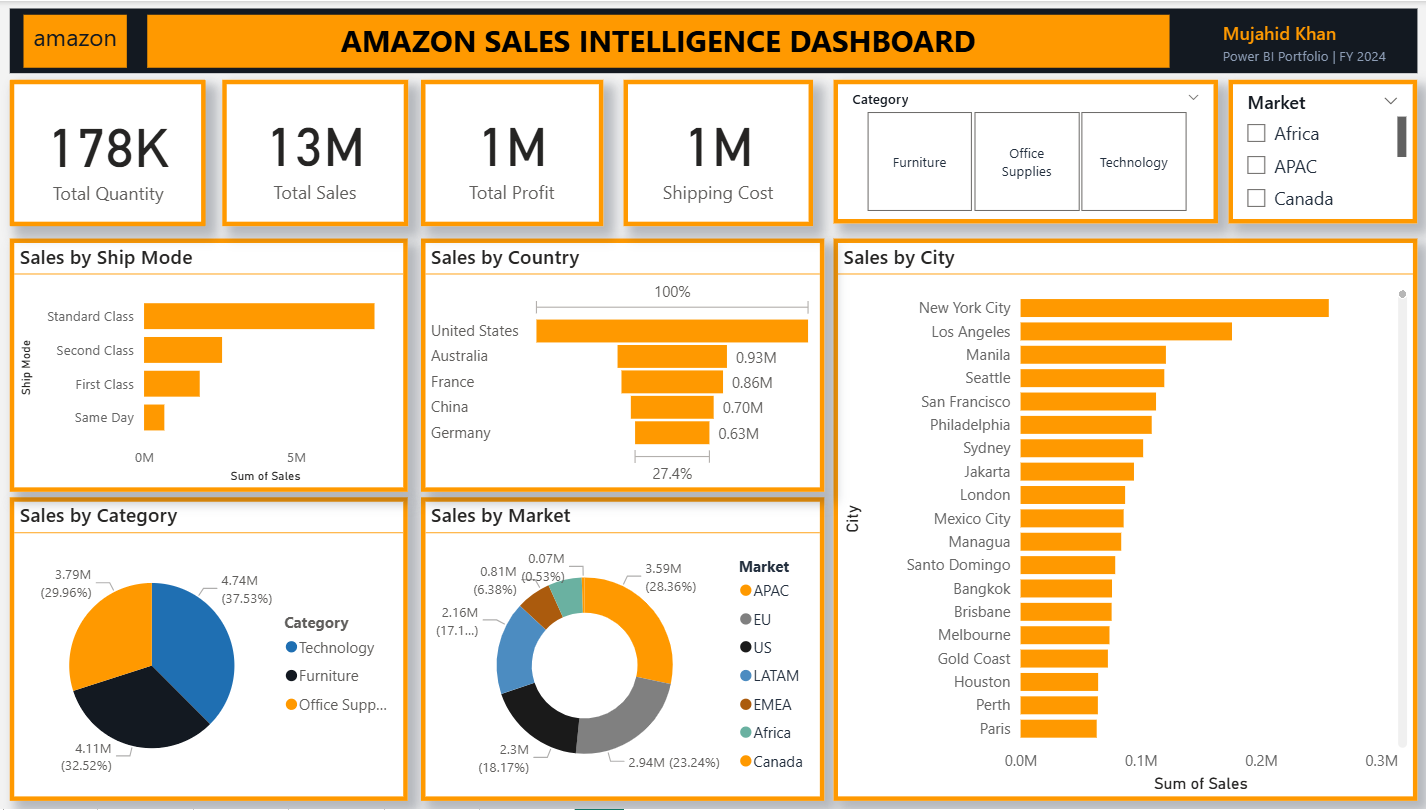

What the dashboard file says about the page in this screenshot:
{"tool":"powerbi","page":{"name":"Page 1","canvas":[1280,720],"ordinal":0},"visuals":[{"type":"pieChart","title":"Sales by Category","fields":{"Category":["Orders.Category"],"Y":["Sum(Orders.Sales)"]},"box":[12.2,442.2,354.4,270],"z":0},{"type":"donutChart","title":"Sales by Market","fields":{"Category":["Orders.Market"],"Y":["Sum(Orders.Sales)"]},"box":[378.9,442.2,358.9,270],"z":1000},{"type":"barChart","title":"Sales by Ship Mode","fields":{"Category":["Orders.Ship Mode"],"Y":["Sum(Orders.Sales)"]},"box":[12.2,211.1,354.4,225.6],"z":2000},{"type":"barChart","title":"Sales by City","fields":{"Category":["Orders.City"],"Y":["Sum(Orders.Sales)"]},"box":[745.6,211.1,520,501.1],"z":3000},{"type":"funnel","title":"Sales by Country","fields":{"Category":["Orders.Country"],"Y":["Sum(Orders.Sales)"]},"box":[378.9,211.1,358.9,225.6],"z":4000},{"type":"card","fields":{"Values":["Sum(Orders.Quantity)"]},"box":[12.2,70,174.4,130],"z":5000},{"type":"card","fields":{"Values":["Sum(Orders.Sales)"]},"box":[201.1,70,165.6,130],"z":6000},{"type":"card","fields":{"Values":["Sum(Orders.Profit)"]},"box":[378.9,70,162.2,130],"z":7000},{"type":"card","fields":{"Values":["Sum(Orders.Shipping Cost)"]},"box":[558.9,70,168.9,130],"z":8000},{"type":"slicer","fields":{"Values":["Orders.Category"]},"box":[745.6,70,342.2,127.8],"z":9000},{"type":"slicer","fields":{"Values":["Orders.Market"]},"box":[1097.8,70,167.8,127.8],"z":10000},{"type":"textbox","box":[12.5,6.2,1253.8,57.5],"z":11000},{"type":"textbox","box":[24,12,92,47],"z":12000},{"type":"textbox","box":[135,12,910,47],"z":13000},{"type":"textbox","box":[1088,12,163,58],"z":14000}]}

Visuals, with their boxes in screenshot pixels (x1, y1, x2, y2), scaled from the page's 1280x720 canvas onto the 1426x810 screenshot:
"Sales by Category" pieChart: left=14, top=497, right=408, bottom=801
"Sales by Market" donutChart: left=422, top=497, right=822, bottom=801
"Sales by Ship Mode" barChart: left=14, top=237, right=408, bottom=491
"Sales by City" barChart: left=831, top=237, right=1410, bottom=801
"Sales by Country" funnel: left=422, top=237, right=822, bottom=491
card - Sum(Orders.Quantity): left=14, top=79, right=208, bottom=225
card - Sum(Orders.Sales): left=224, top=79, right=409, bottom=225
card - Sum(Orders.Profit): left=422, top=79, right=603, bottom=225
card - Sum(Orders.Shipping Cost): left=623, top=79, right=811, bottom=225
slicer - Orders.Category: left=831, top=79, right=1212, bottom=223
slicer - Orders.Market: left=1223, top=79, right=1410, bottom=223
textbox: left=14, top=7, right=1411, bottom=72
textbox: left=27, top=14, right=129, bottom=66
textbox: left=150, top=14, right=1164, bottom=66
textbox: left=1212, top=14, right=1394, bottom=79
